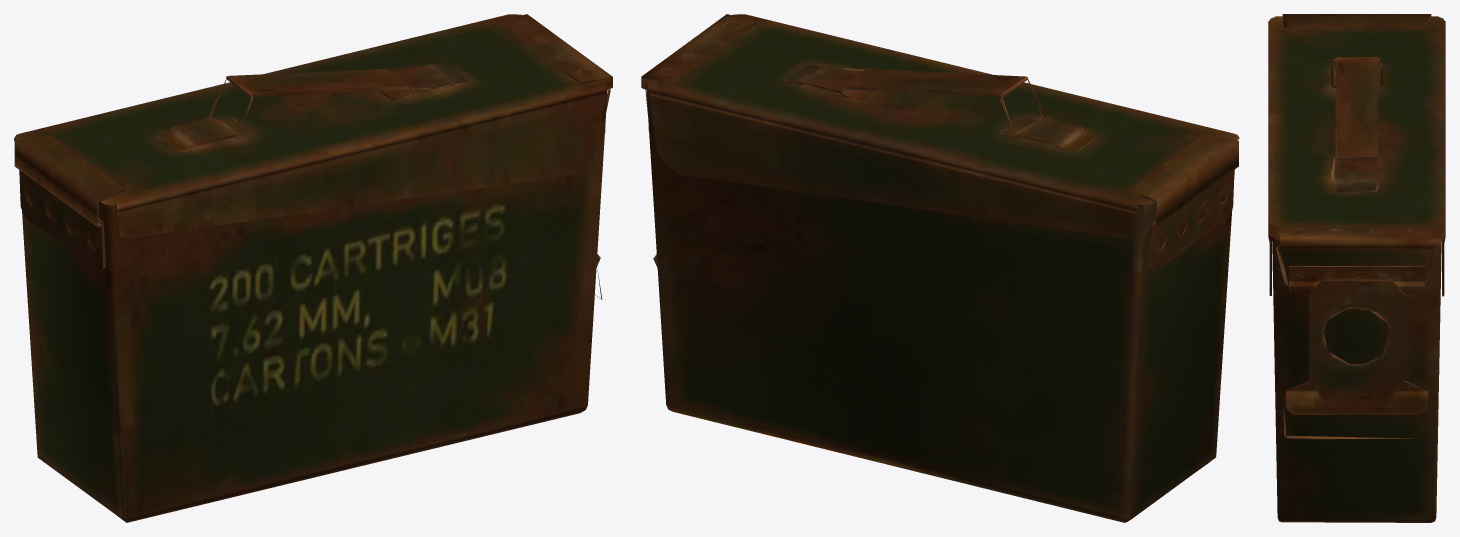
File: ammo.glb
The picture shows the model from 3 angles, left to right: view 1: azimuth 30°, elevation 25°; view 2: azimuth 150°, elevation 25°; view 3: azimuth 270°, elevation 25°; orthographic projection. The views are drawn at different scales.
Parts seen in each view (by area): view 1: ammo_box_handle_ring_b; view 2: ammo_box_handle_ring_b; view 3: ammo_box_handle_ring_b.
Part boxes in pixels (<box>): ammo_box_handle_ring_b: <box>14,14,612,522</box>; ammo_box_handle_ring_b: <box>641,14,1239,522</box>; ammo_box_handle_ring_b: <box>1268,14,1445,522</box>.
Size of the model in its own units: 0.3348 by 0.2305 by 0.1111.
1 material, 1 textured.
